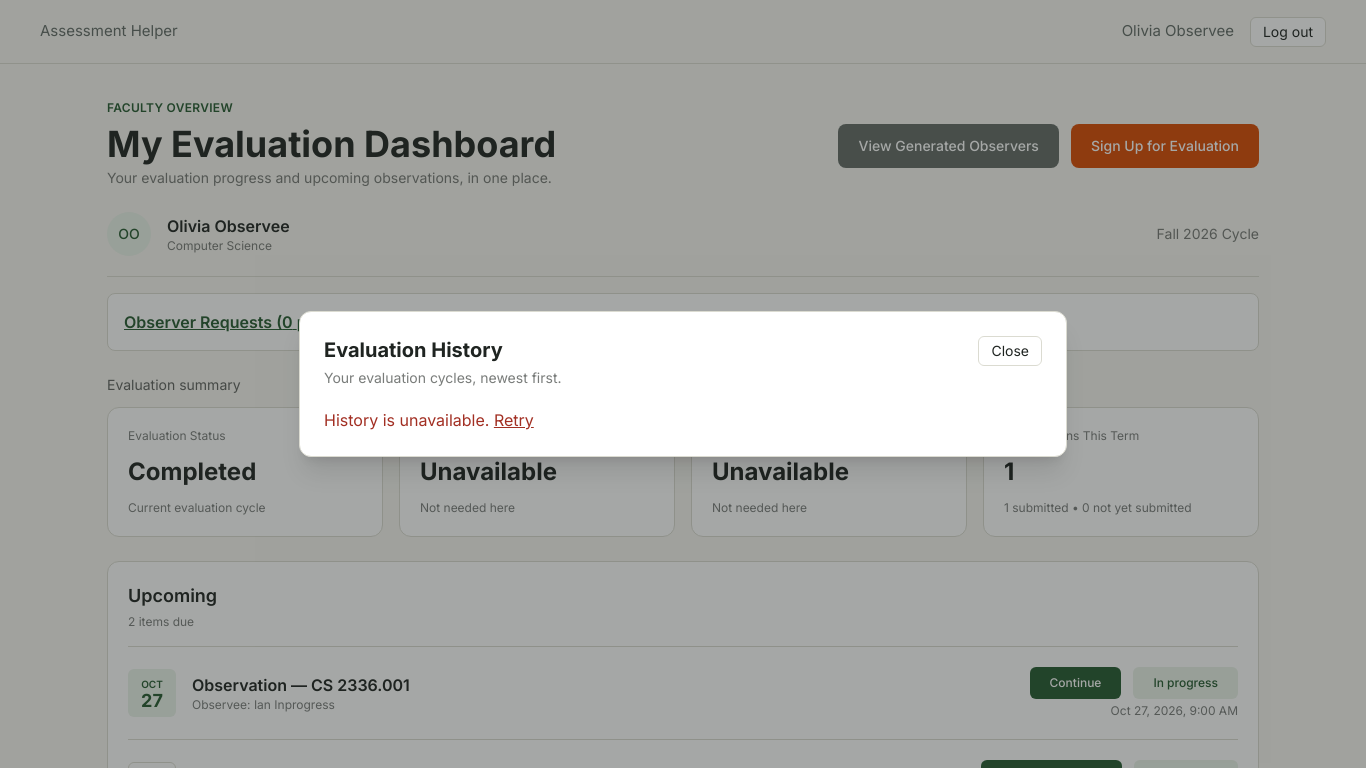
Test: the history dialog shows the API's reason and Retry tries again
expect the message shows "History is unavailable.": met, box top-left (324, 410), bottom-right (489, 430)
Click the button "Retry" at (514,420), box top-left (494, 408), bottom-right (534, 432)
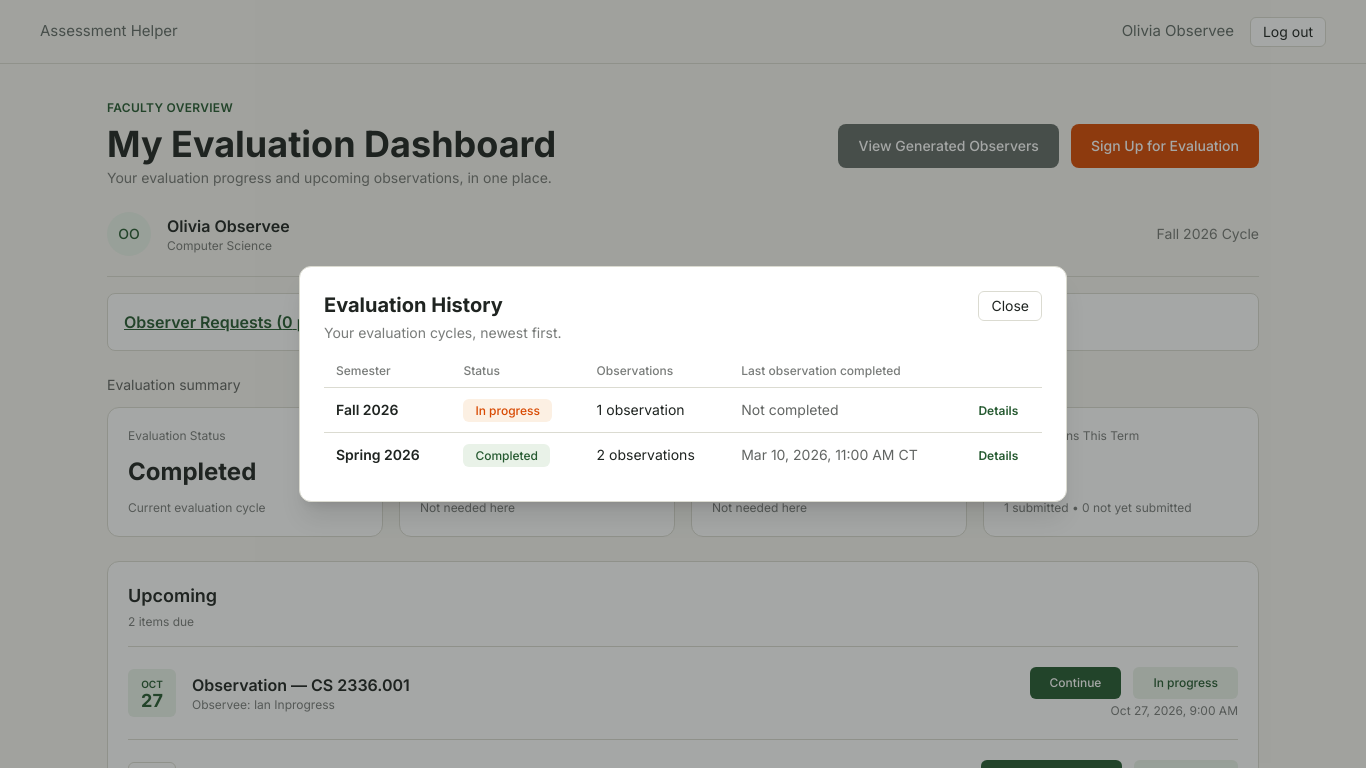
expect the column heading "Spring 2026" is shown: met, box top-left (324, 432), bottom-right (451, 477)
expect the message "History is unavailable. Retry" is gone: met
